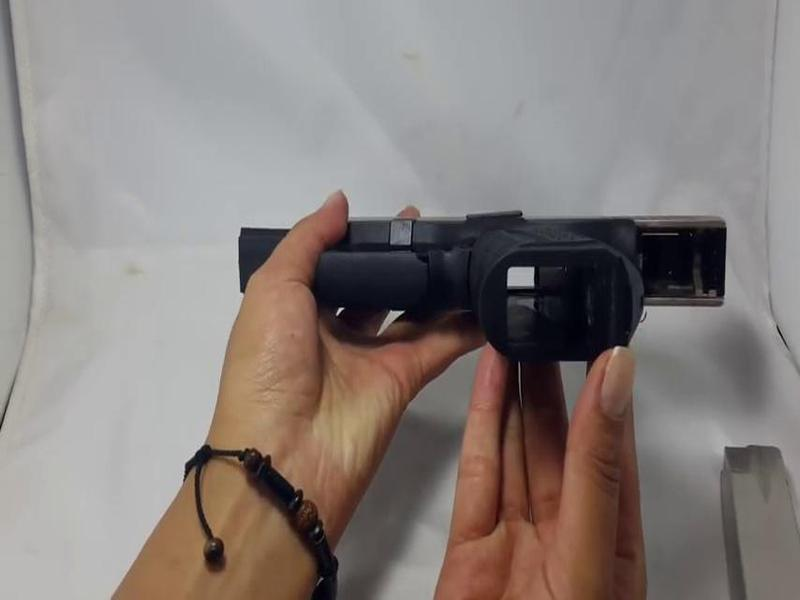Pistola: (215, 182, 772, 373)
